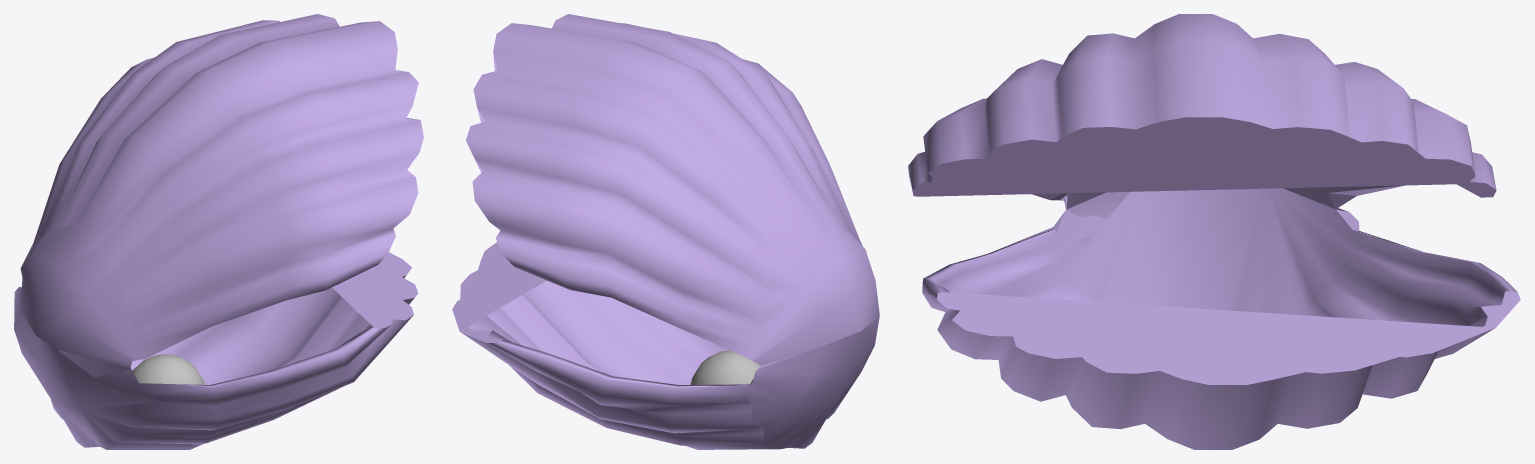
File: clam.fbx
The picture shows the model from 3 angles, left to right: view 1: azimuth 30°, elevation 25°; view 2: azimuth 150°, elevation 25°; view 3: azimuth 270°, elevation 25°; orthographic projection. The views are drawn at different scales.
Parts seen in each view (by area): view 1: pCube2; view 2: pCube2; view 3: pCube2.
Part boxes in pixels (x1,y1,x2,y2): pCube2: (14, 14, 423, 449); pCube2: (452, 14, 879, 449); pCube2: (908, 14, 1520, 449).
Bounding box in the file's own units: 1.57 × 1.53 × 1.85.
